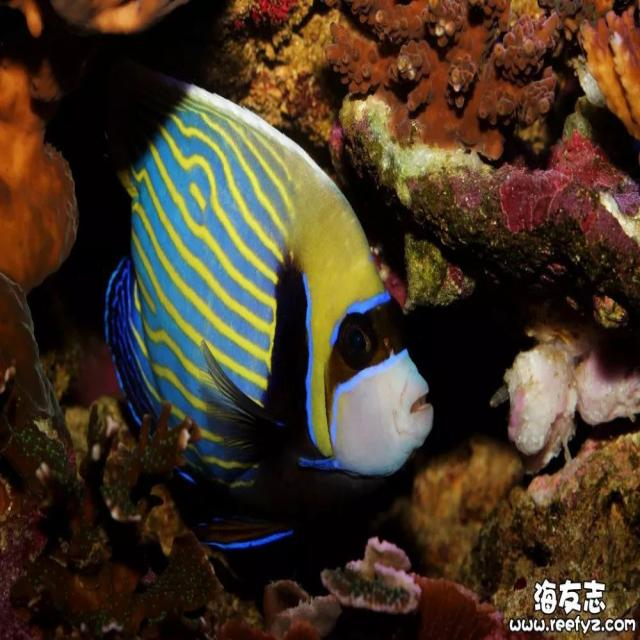AngelFish: (108, 78, 435, 554)
